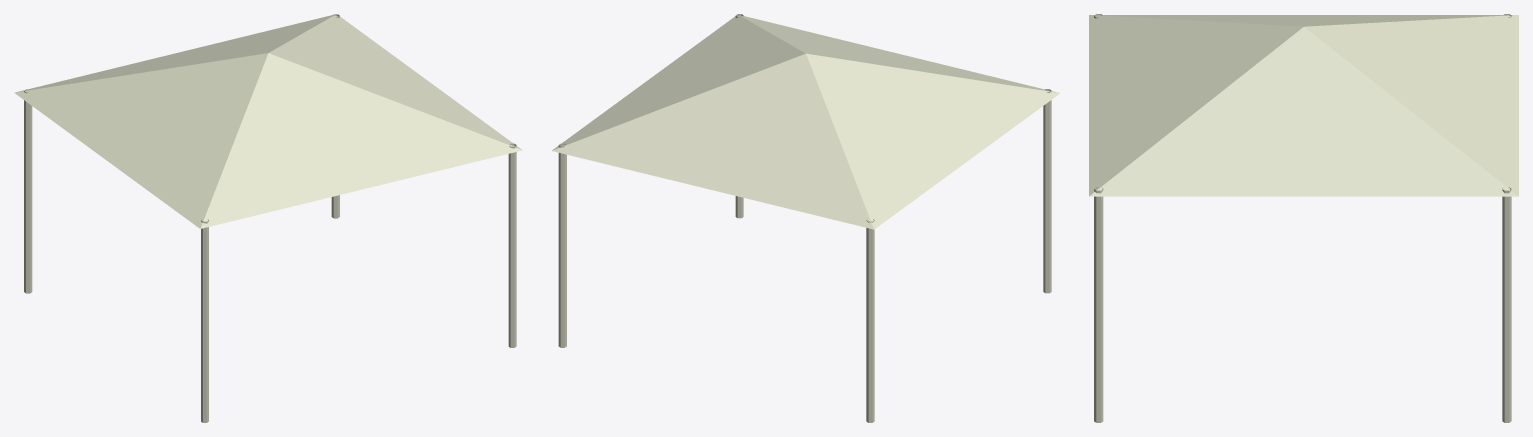
File: Tenda.fbx
3 views of the same model, side by side, from view 1: azimuth 30°, elevation 25°; view 2: azimuth 150°, elevation 25°; view 3: azimuth 270°, elevation 25° (orthographic). The views are drawn at different scales.
Parts seen in each view (by area): view 1: Tenda.001; view 2: Tenda.001; view 3: Tenda.001.
Boxes of the visible parts, box(x1,y1,x2,y2) form: Tenda.001: box(14, 14, 522, 422); Tenda.001: box(552, 14, 1060, 422); Tenda.001: box(1089, 14, 1518, 422).
Bounding box in the file's own units: 412 × 325 × 412.
